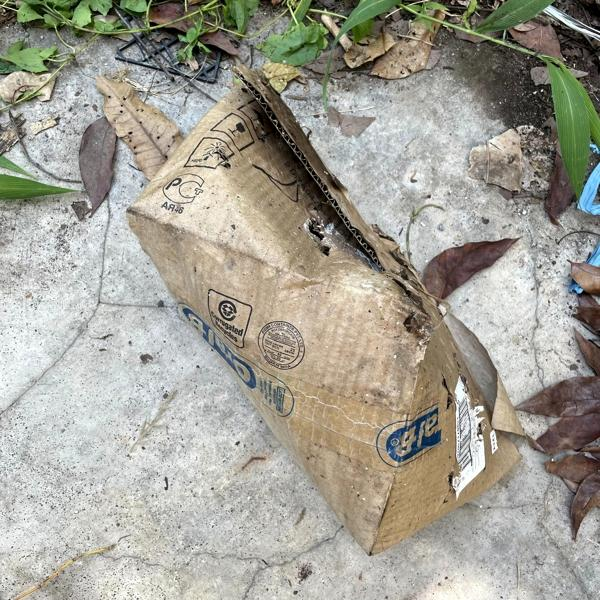Organik: (110, 62, 545, 557)
